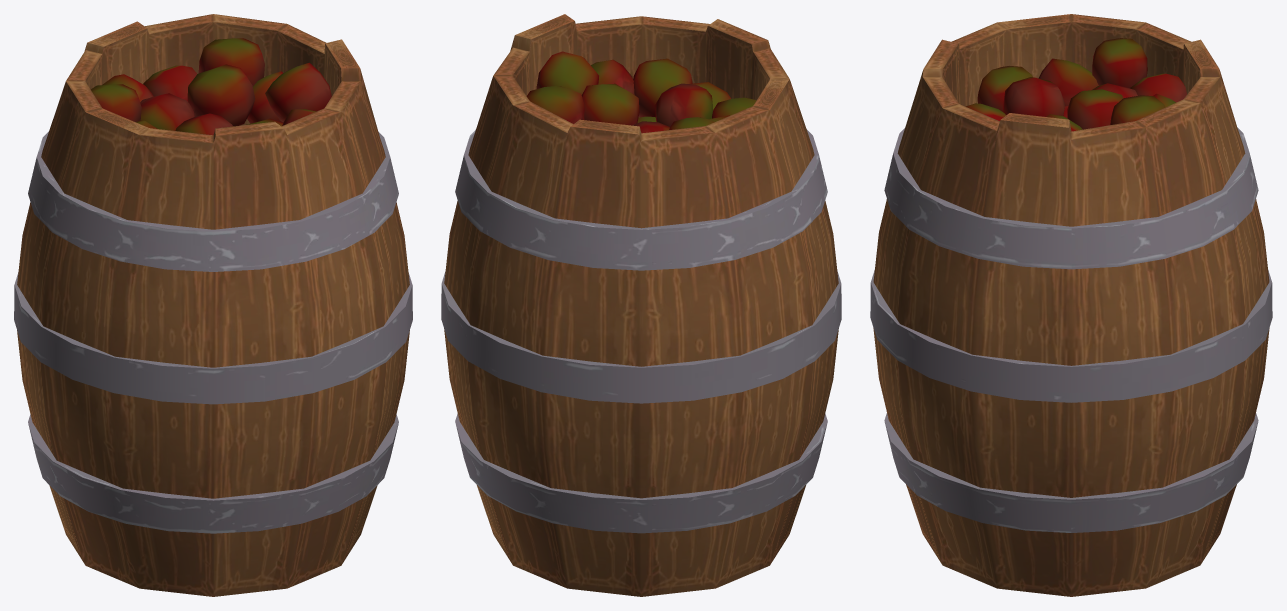
The model's file is Barrel_Apples.glb.
The picture shows the model from 3 angles, left to right: view 1: azimuth 30°, elevation 25°; view 2: azimuth 150°, elevation 25°; view 3: azimuth 270°, elevation 25°; orthographic projection.
Parts seen in each view (by area): view 1: Barrel_Apples; view 2: Barrel_Apples; view 3: Barrel_Apples.
Part boxes in pixels (box(x1,y1,x2,y2)): Barrel_Apples: box(14, 14, 412, 596); Barrel_Apples: box(441, 14, 841, 596); Barrel_Apples: box(870, 14, 1272, 596).
Size of the model in its own units: 0.698 by 0.898 by 0.698.
Materials: 3 (3 with a texture image).
